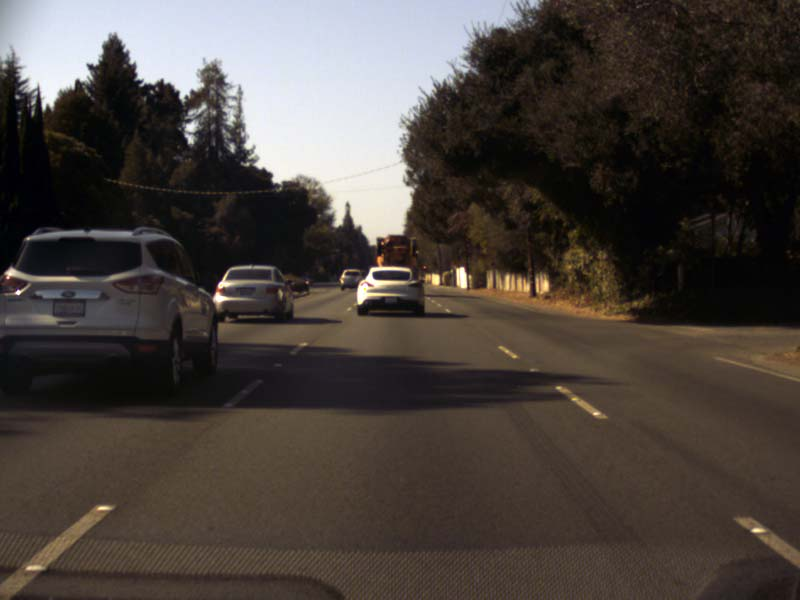Yellow: (422, 262, 426, 271)
